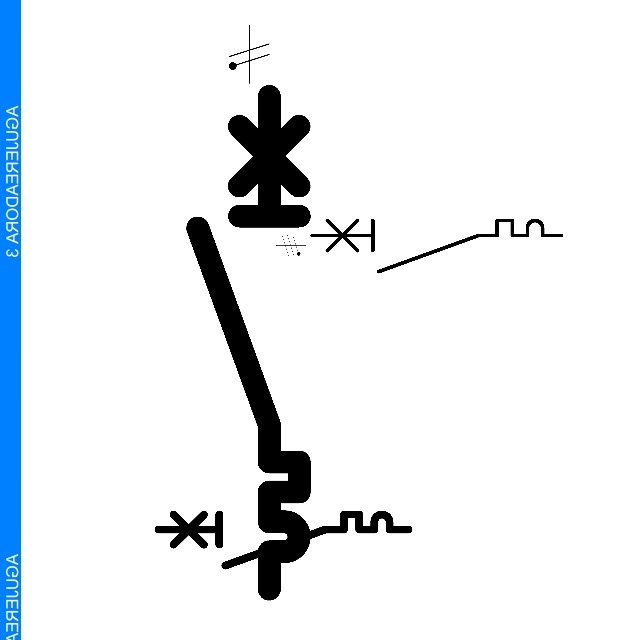interruptor_termomagnetico: (185, 83, 312, 601), (152, 508, 415, 572), (305, 214, 567, 278)
